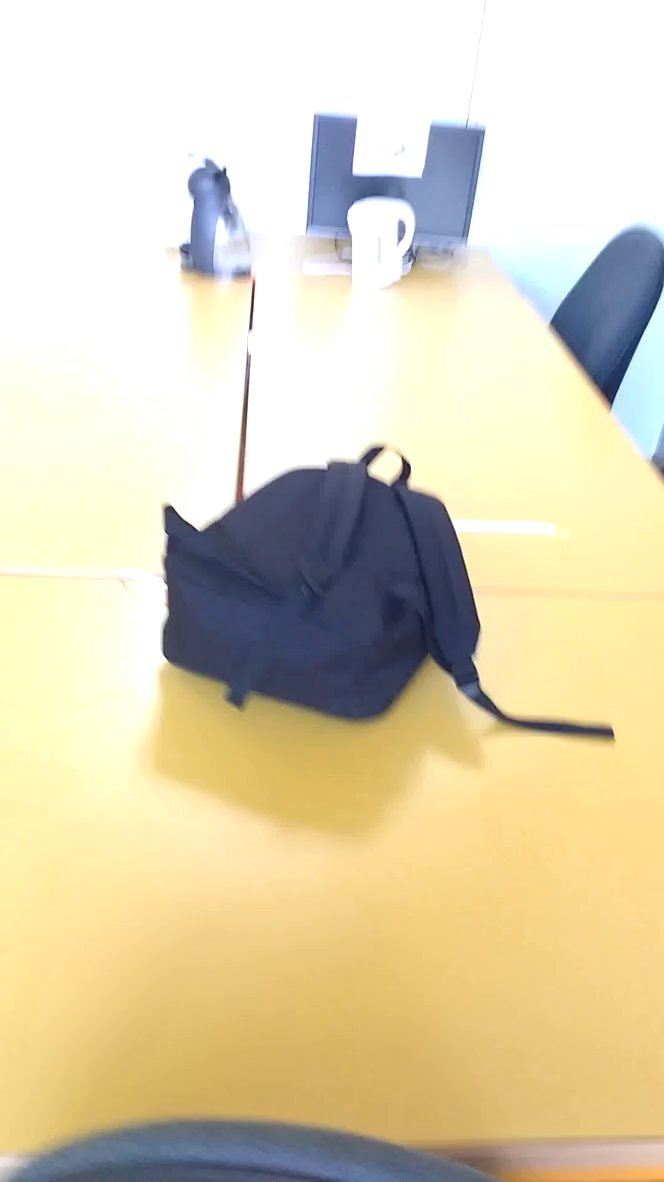bag: (145, 428, 628, 776)
chair: (519, 201, 664, 439)
